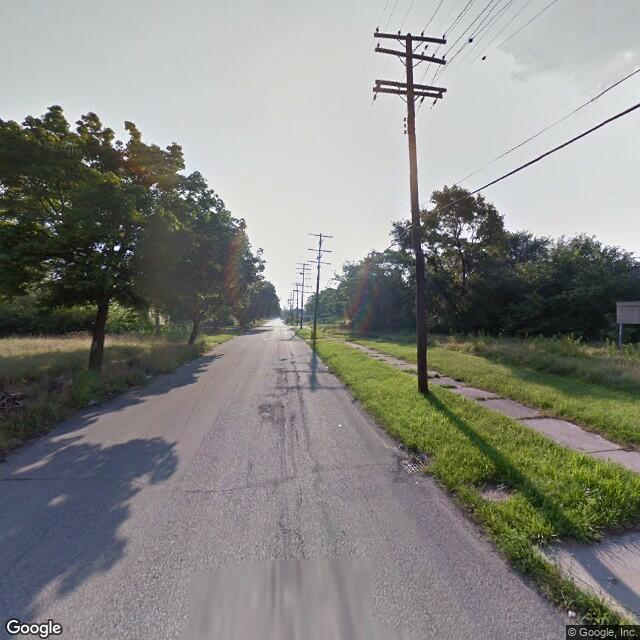litter: (565, 607, 578, 618)
